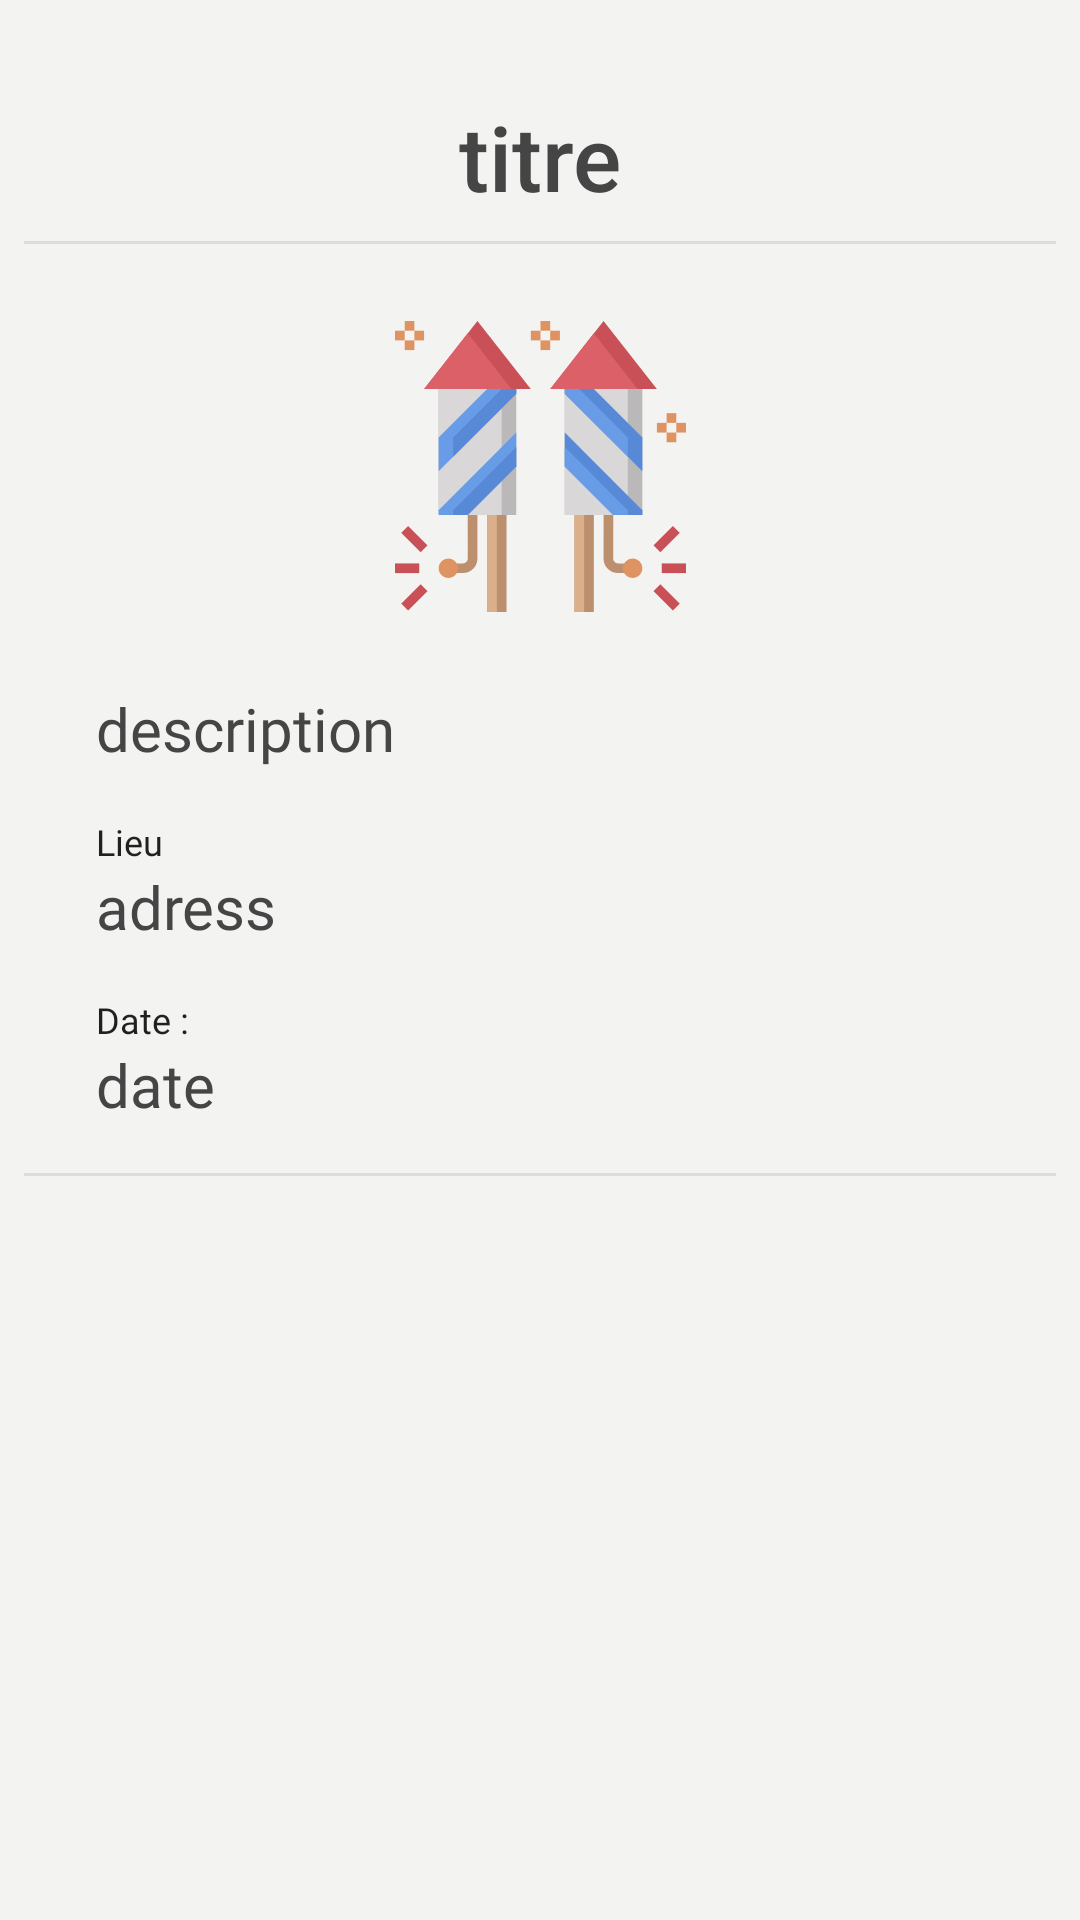

Named icons in this screenshot (1080×1920) and their bounding boxes, (x1, y1, x2, y2):
events: (395, 321, 686, 612)
